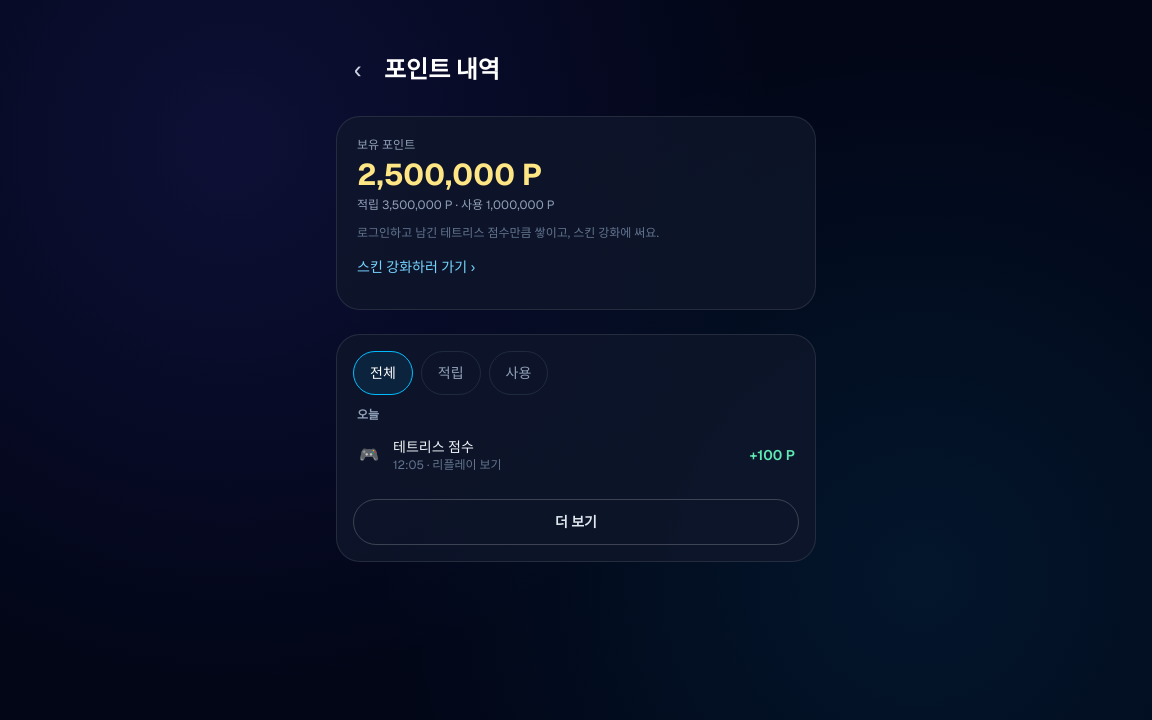
포인트 내역 (tetris-home A) › [더 보기] — nextCursor를 beforeId로, 이어 붙이고 끝(null)이면 버튼이 사라진다
Click the button "더 보기". click: {"x": 576, "y": 522}
box: x1=353 y1=499 x2=799 y2=545
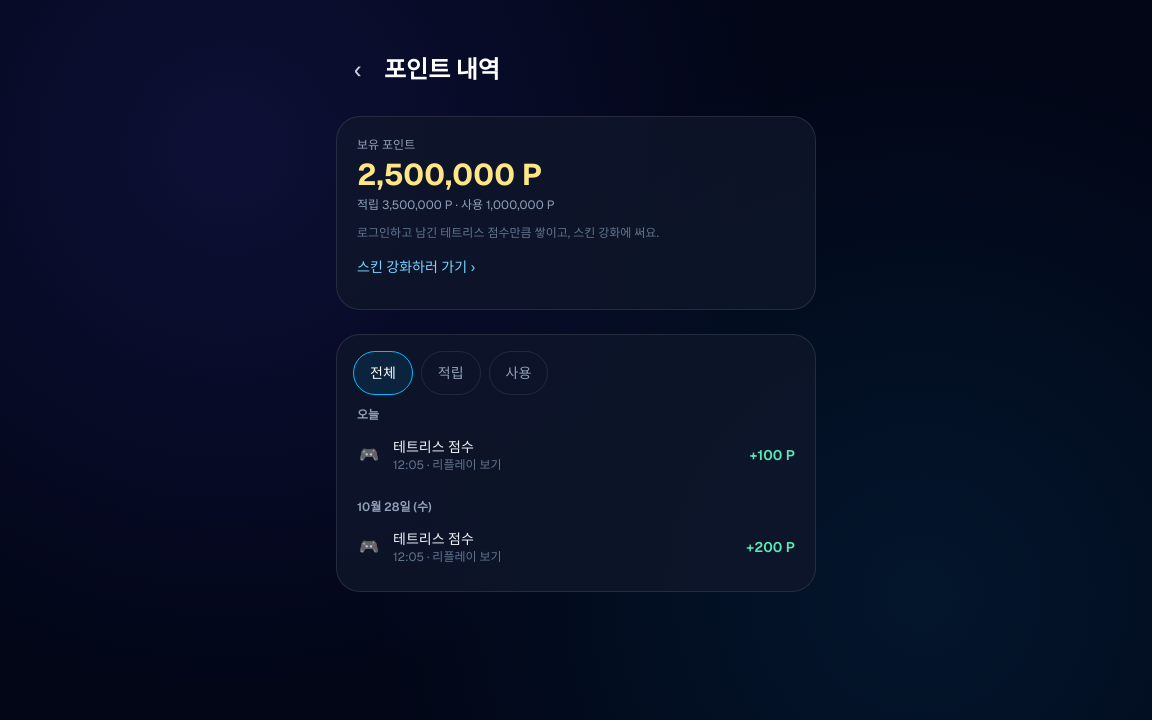
Expected: the list item with test id "points-item-10" is shown, x1=353 y1=427 x2=799 y2=483
Now the list item with test id "points-item-9" is shown, box x1=353 y1=519 x2=799 y2=575
Now the button "더 보기" is gone
